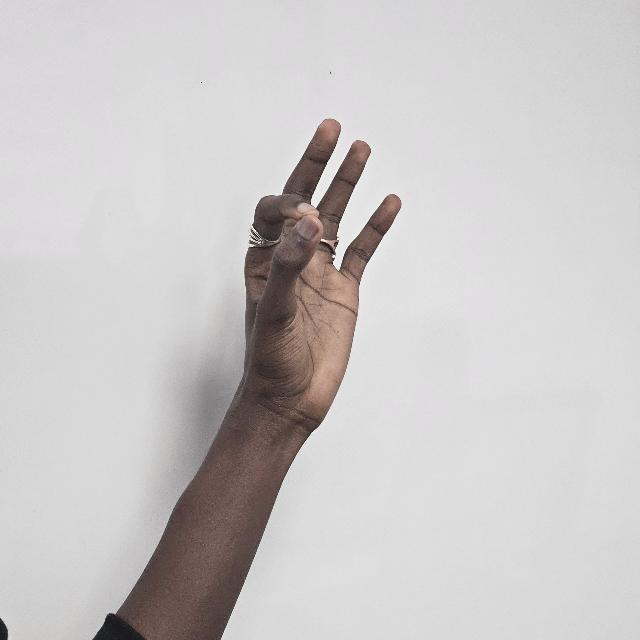Bolinha: (240, 102, 400, 462)
